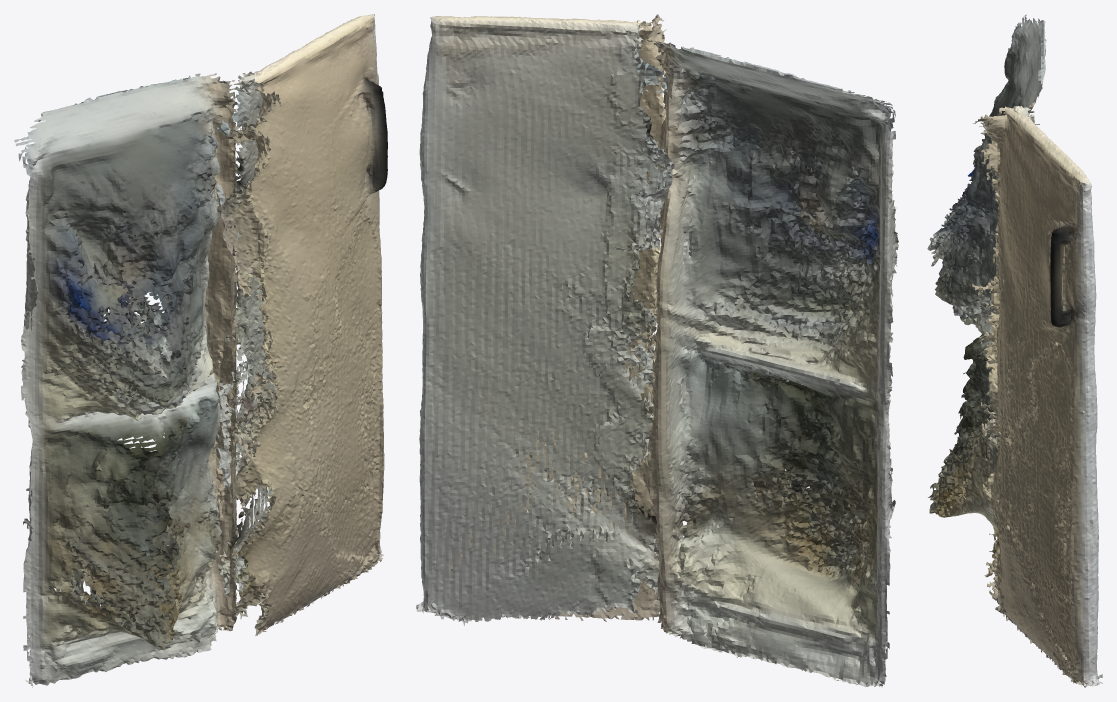
The model's file is cab1r.glb.
3 renders of one model, left to right at view 1: azimuth 30°, elevation 25°; view 2: azimuth 150°, elevation 25°; view 3: azimuth 270°, elevation 25°, orthographic. The views are drawn at different scales.
Visible parts, largest first — view 1: cabinet_1r_white_start_0, cabinet_1r_white_start_1; view 2: cabinet_1r_white_start_1, cabinet_1r_white_start_0; view 3: cabinet_1r_white_start_1, cabinet_1r_white_start_0.
Part boxes in pixels (left/top/right/bottom): cabinet_1r_white_start_0: left=14, top=73, right=240, bottom=687; cabinet_1r_white_start_1: left=215, top=14, right=387, bottom=635; cabinet_1r_white_start_1: left=416, top=14, right=674, bottom=625; cabinet_1r_white_start_0: left=647, top=40, right=898, bottom=687; cabinet_1r_white_start_1: left=972, top=106, right=1102, bottom=687; cabinet_1r_white_start_0: left=927, top=14, right=1046, bottom=529.
Size of the model in its own units: 0.6354 by 0.8553 by 0.2615.
